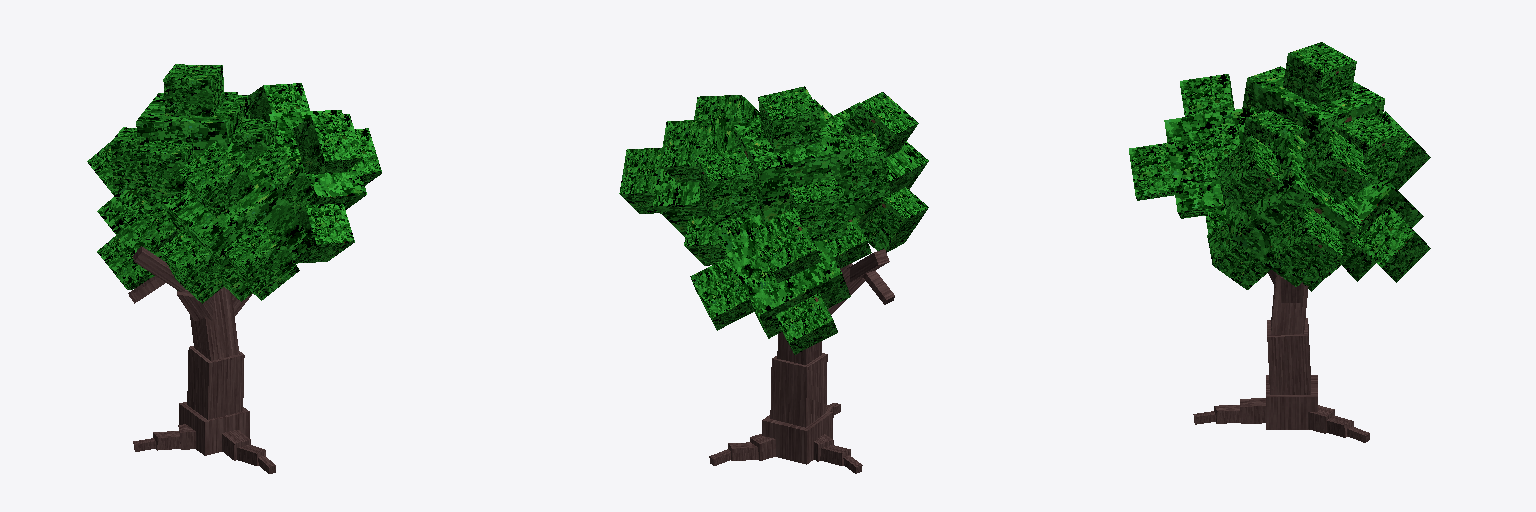
3 renders of one model, left to right at view 1: azimuth 30°, elevation 25°; view 2: azimuth 150°, elevation 25°; view 3: azimuth 270°, elevation 25°, orthographic.
Visible parts, largest first — view 1: cube; view 2: cube; view 3: cube.
Part boxes in pixels (x1,y1,x2,y2): cube: (87,64,381,473); cube: (619,86,928,473); cube: (1129,42,1430,442).
Size of the model in its own units: 13.41 by 18.44 by 13.85.
1 materials, 1 textured.